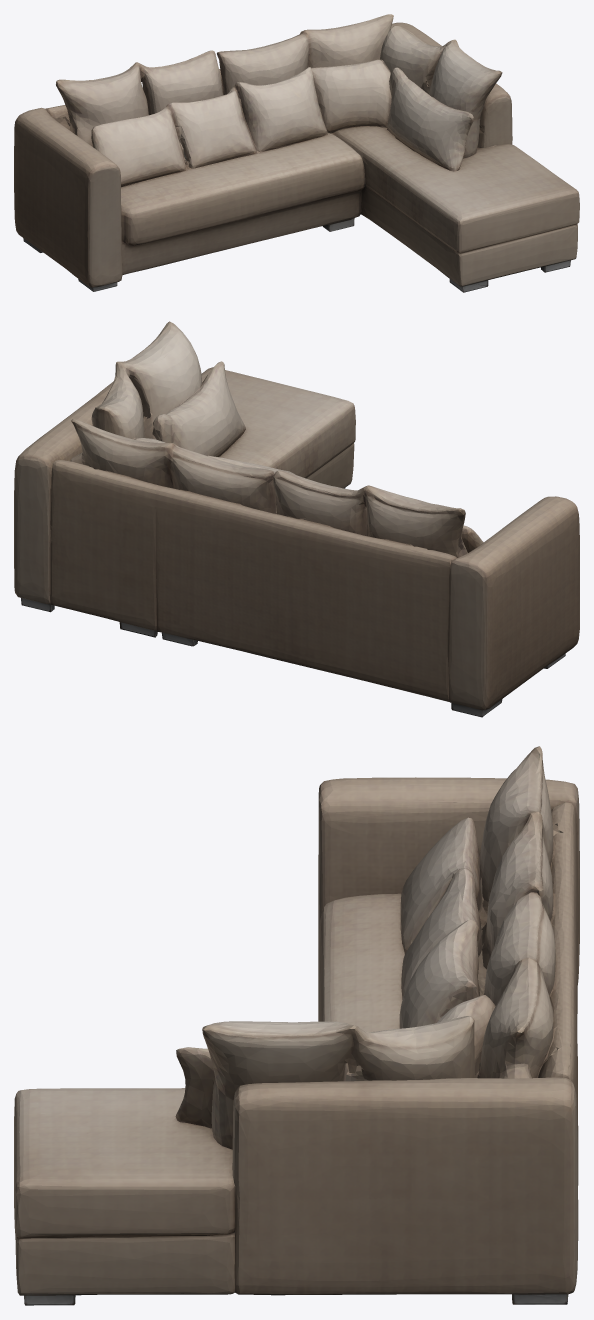
The model's file is 5900_juliet_daybed_sofa_can_stan.glb.
3 renders of one model, top to bottom at view 1: azimuth 30°, elevation 25°; view 2: azimuth 150°, elevation 25°; view 3: azimuth 270°, elevation 25°, orthographic. The views are drawn at different scales.
Parts seen in each view (by area): view 1: world; view 2: world; view 3: world.
Part boxes in pixels (x1,y1,x2,y2): world: [14, 14, 579, 292]; world: [14, 321, 579, 717]; world: [14, 746, 579, 1305].
Size of the model in its own units: 0.9978 by 0.3826 by 0.7312.
Materials: 1 (1 with a texture image).
